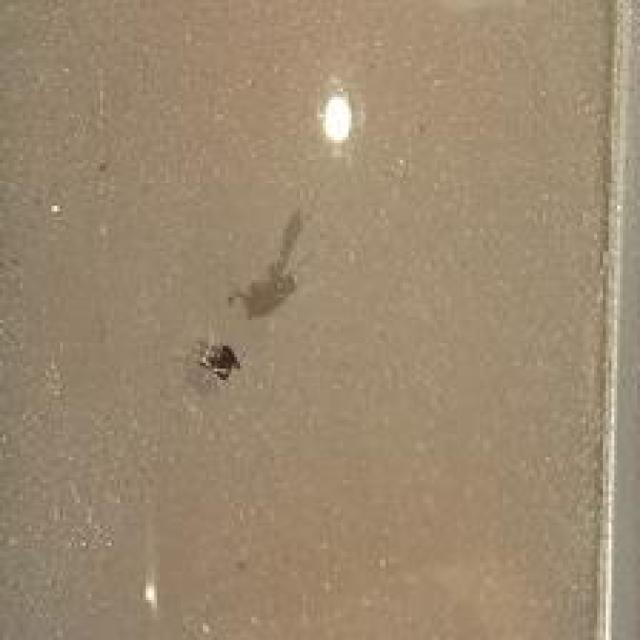Aedes albopictus: (193, 338, 241, 382)
